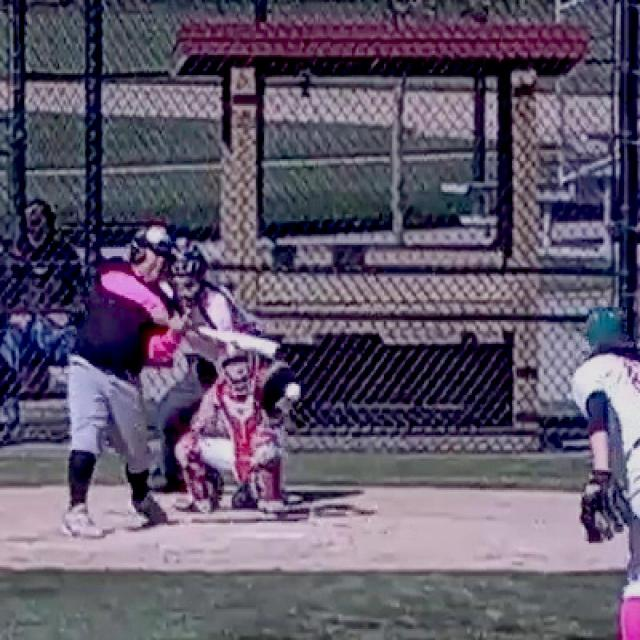baseball: (286, 383, 300, 399)
